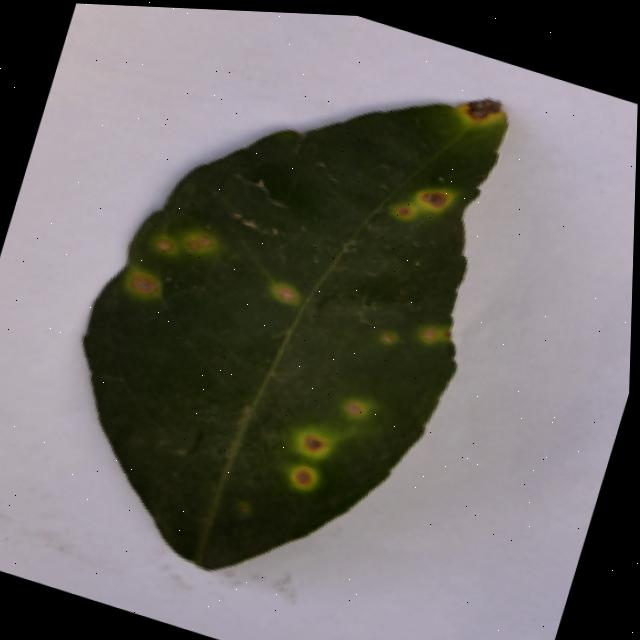canker: (86, 98, 507, 566), (104, 200, 227, 325), (267, 374, 371, 511), (366, 158, 471, 252), (430, 75, 516, 144), (359, 305, 450, 369), (244, 265, 312, 323)
